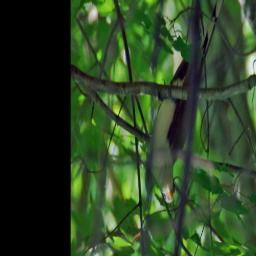Cuckoo: (147, 0, 236, 206)
